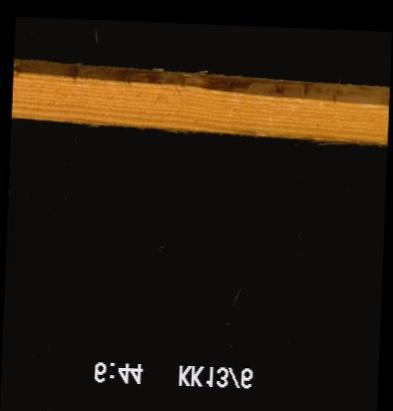wave: (11, 116, 386, 145), (14, 66, 385, 95)
